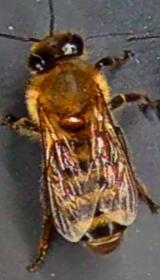varroa_mite: (59, 108, 90, 130)
